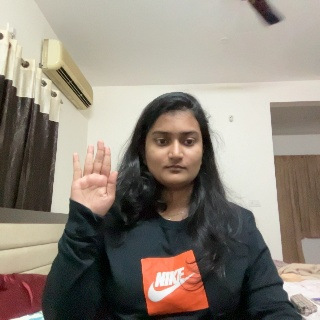Face: (143, 105, 207, 196)
Hello: (68, 141, 119, 226)
